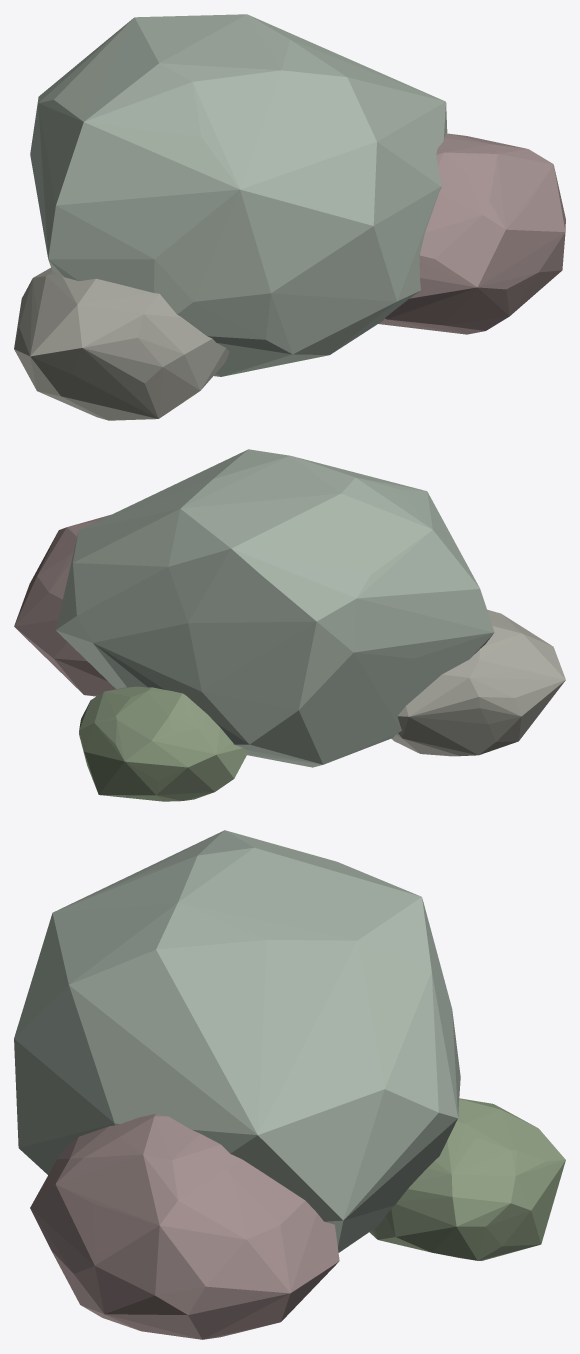
Rendered from rock_large.glb.
The picture shows the model from 3 angles, top to bottom: view 1: azimuth 30°, elevation 25°; view 2: azimuth 150°, elevation 25°; view 3: azimuth 270°, elevation 25°; orthographic projection. The views are drawn at different scales.
Parts seen in each view (by area): view 1: rock_body_01, rock_body_02, rock_body_03; view 2: rock_body_01, rock_body_04, rock_body_03, rock_body_02; view 3: rock_body_01, rock_body_02, rock_body_04.
Boxes of the visible parts, x1,y1,x2,y2 form: rock_body_01: (30, 14, 447, 376); rock_body_02: (378, 133, 565, 334); rock_body_03: (14, 268, 229, 420); rock_body_01: (56, 449, 494, 767); rock_body_04: (79, 686, 248, 801); rock_body_03: (391, 609, 565, 756); rock_body_02: (14, 514, 115, 696); rock_body_01: (14, 830, 460, 1252); rock_body_02: (30, 1113, 339, 1339); rock_body_04: (369, 1098, 565, 1260).
Bounding box in the file's own units: 5.89 × 2.97 × 4.41.
